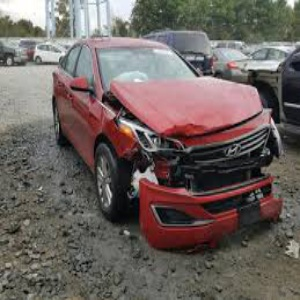bonnet: (112, 74, 260, 136)
bumper: (130, 160, 280, 247)
